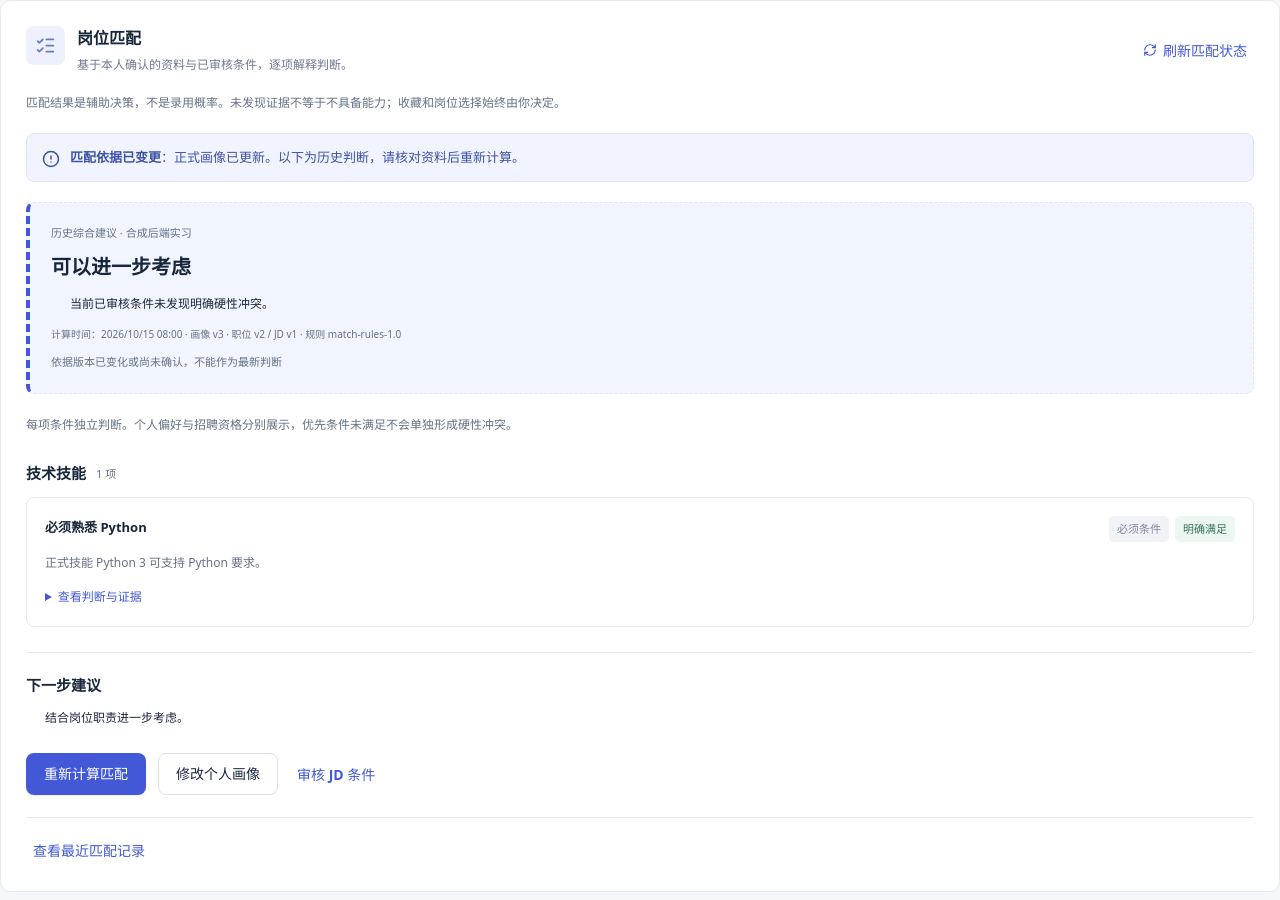
labels stale results as historical and recomputes against the refreshed profile revision
Expected: the text "匹配依据已变更" is shown, x1=70 y1=148 x2=161 y2=166
Expected: the text "历史综合建议 · 合成后端实习" is shown, x1=51 y1=225 x2=192 y2=240
Click the button "重新计算匹配": (86, 774) x1=26 y1=753 x2=146 y2=795
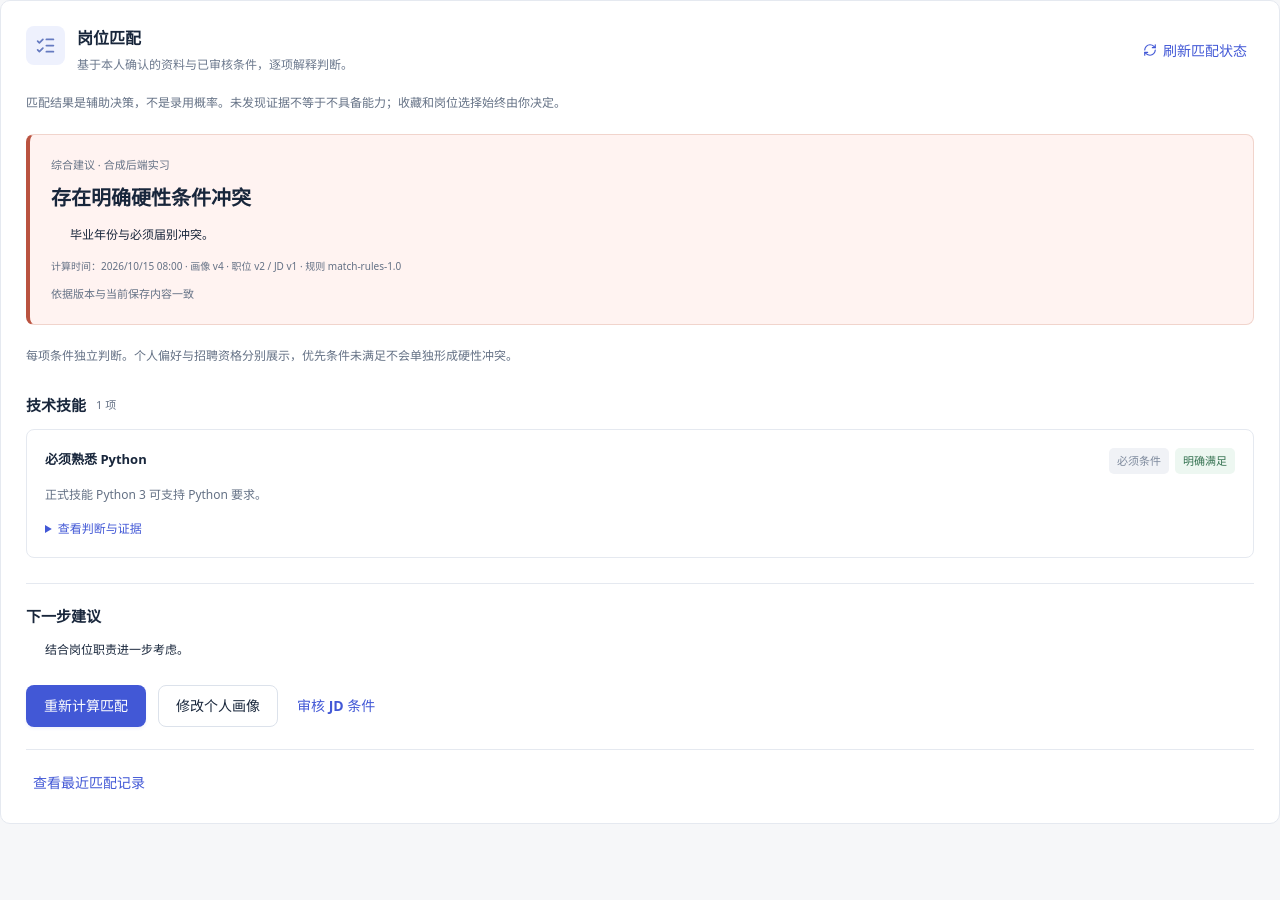
Expected: the heading "存在明确硬性条件冲突" is shown, x1=51 y1=184 x2=251 y2=211
Expected: the text "匹配依据已变更" is gone
